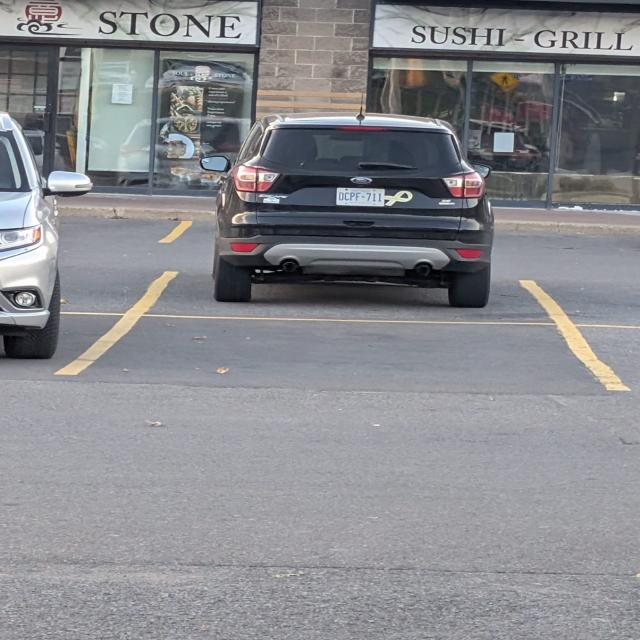plaque: (336, 188, 384, 206)
